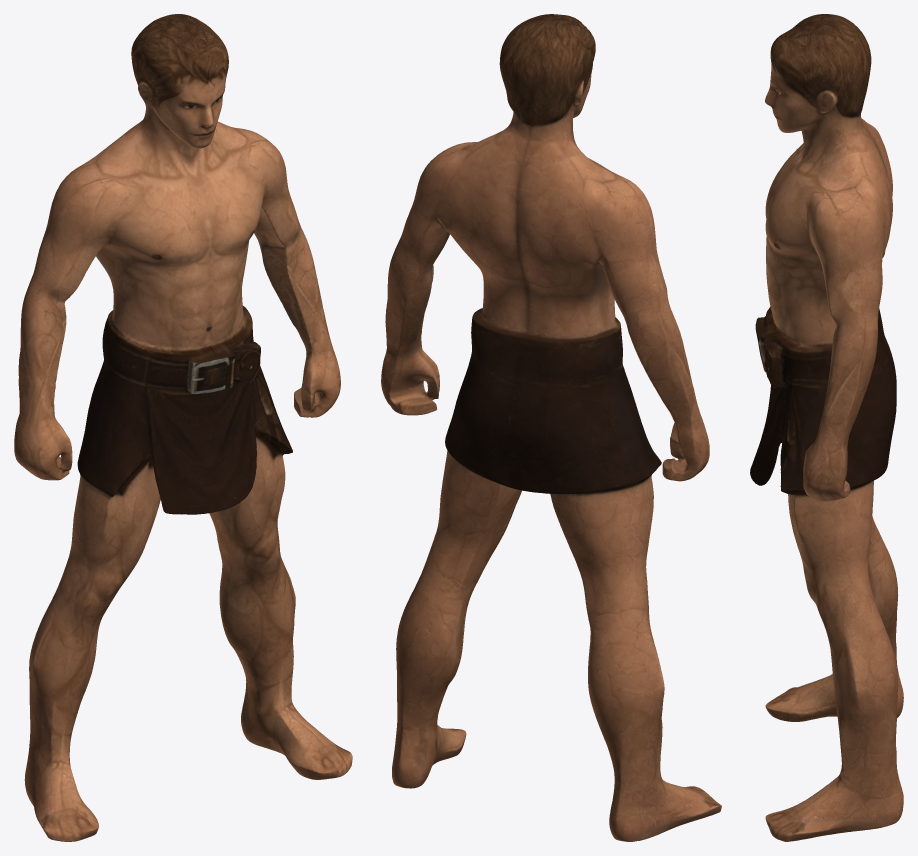
The model's file is meshy-original.glb.
3 renders of one model, left to right at view 1: azimuth 30°, elevation 25°; view 2: azimuth 150°, elevation 25°; view 3: azimuth 270°, elevation 25°, orthographic. The views are drawn at different scales.
Bounding box in the file's own units: 0.8246 × 1.9 × 0.3516.
1 material, 1 textured.
